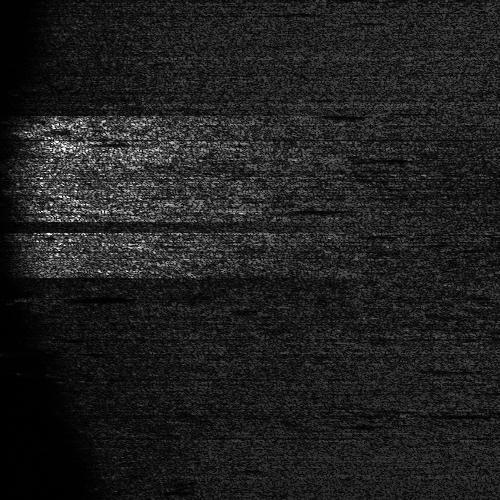object: (237, 206, 278, 211)
shadow: (258, 206, 335, 211)
